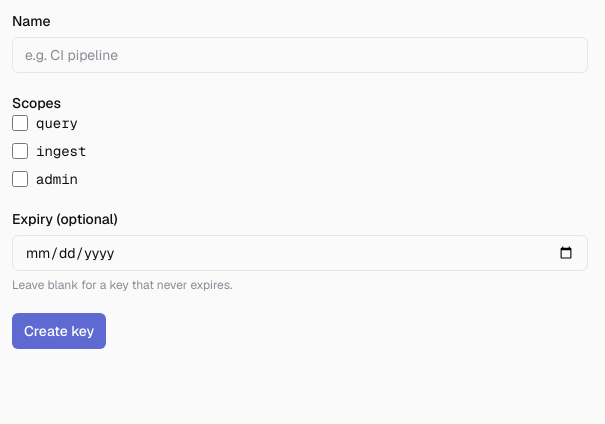
CreateKeyDialog › blocks submit and flags the error when the name is empty
Click the checkbox labelled "query".
click(20, 123)  # box [12, 115, 28, 131]
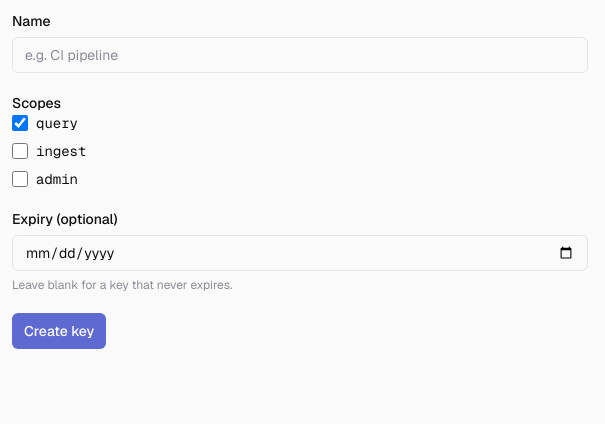
Click the button "Create key".
click(59, 331)  # box [12, 313, 106, 349]
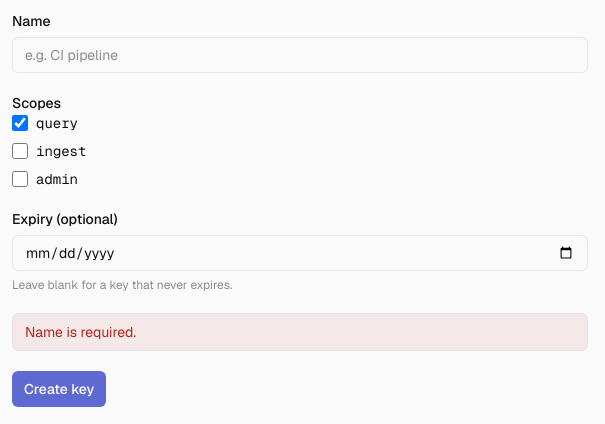
Now the text "Name is required." is shown, box [12, 313, 588, 351]
